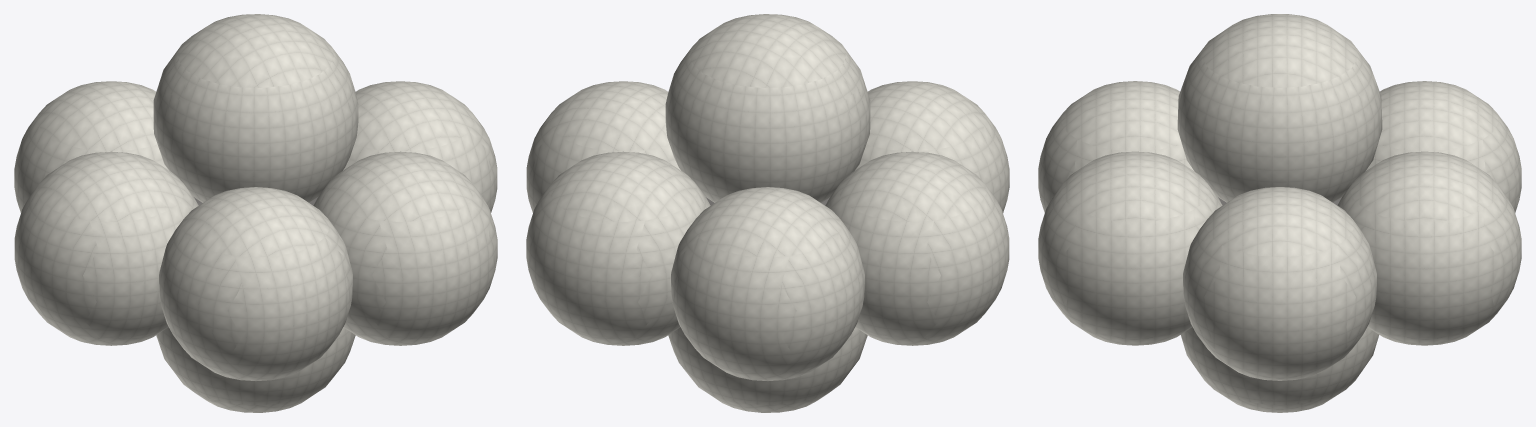
File: stage15_landing_airbags_m_deployed.glb
3 views of the same model, side by side, from view 1: azimuth 30°, elevation 25°; view 2: azimuth 150°, elevation 25°; view 3: azimuth 270°, elevation 25° (orthographic).
Visible parts, largest first — view 1: bag_ring, bag_bottom; view 2: bag_ring, bag_bottom; view 3: bag_ring, bag_bottom.
Part boxes in pixels (x1,y1,x2,y2): bag_ring: (14, 81, 497, 380); bag_bottom: (153, 14, 358, 412); bag_ring: (526, 81, 1009, 380); bag_bottom: (665, 14, 870, 412); bag_ring: (1038, 81, 1521, 380); bag_bottom: (1177, 14, 1382, 412).
Size of the model in its own units: 9 by 7.17 by 8.23.
Materials: 3 (3 with a texture image).
